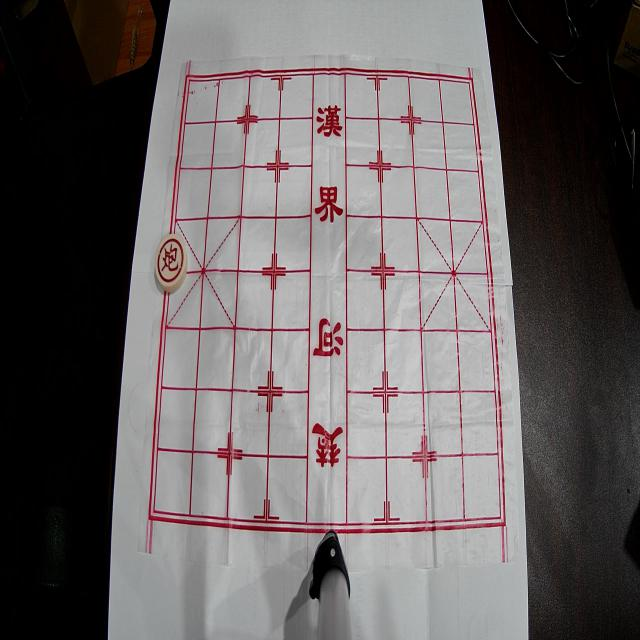red-cannon: (155, 235, 188, 292)
